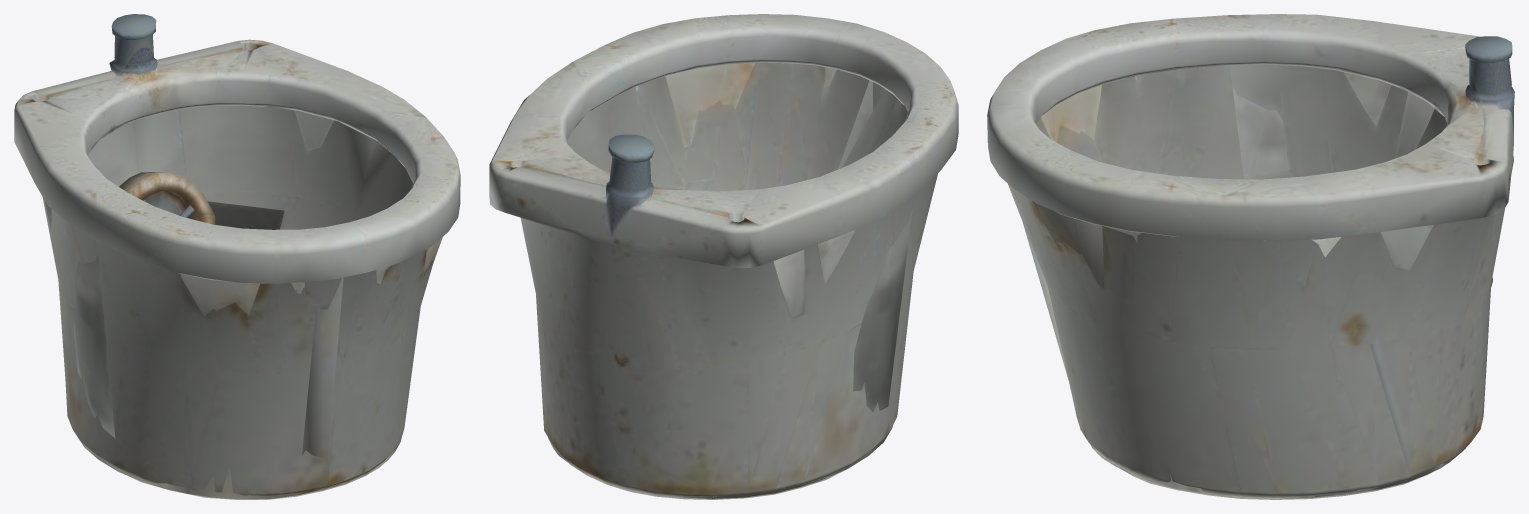
Rendered from cell_toilet.glb.
The picture shows the model from 3 angles, left to right: view 1: azimuth 30°, elevation 25°; view 2: azimuth 150°, elevation 25°; view 3: azimuth 270°, elevation 25°; orthographic projection. The views are drawn at different scales.
Bounding box in the file's own units: 0.4464 × 0.42 × 0.5302.
Materials: 1 (1 with a texture image).
